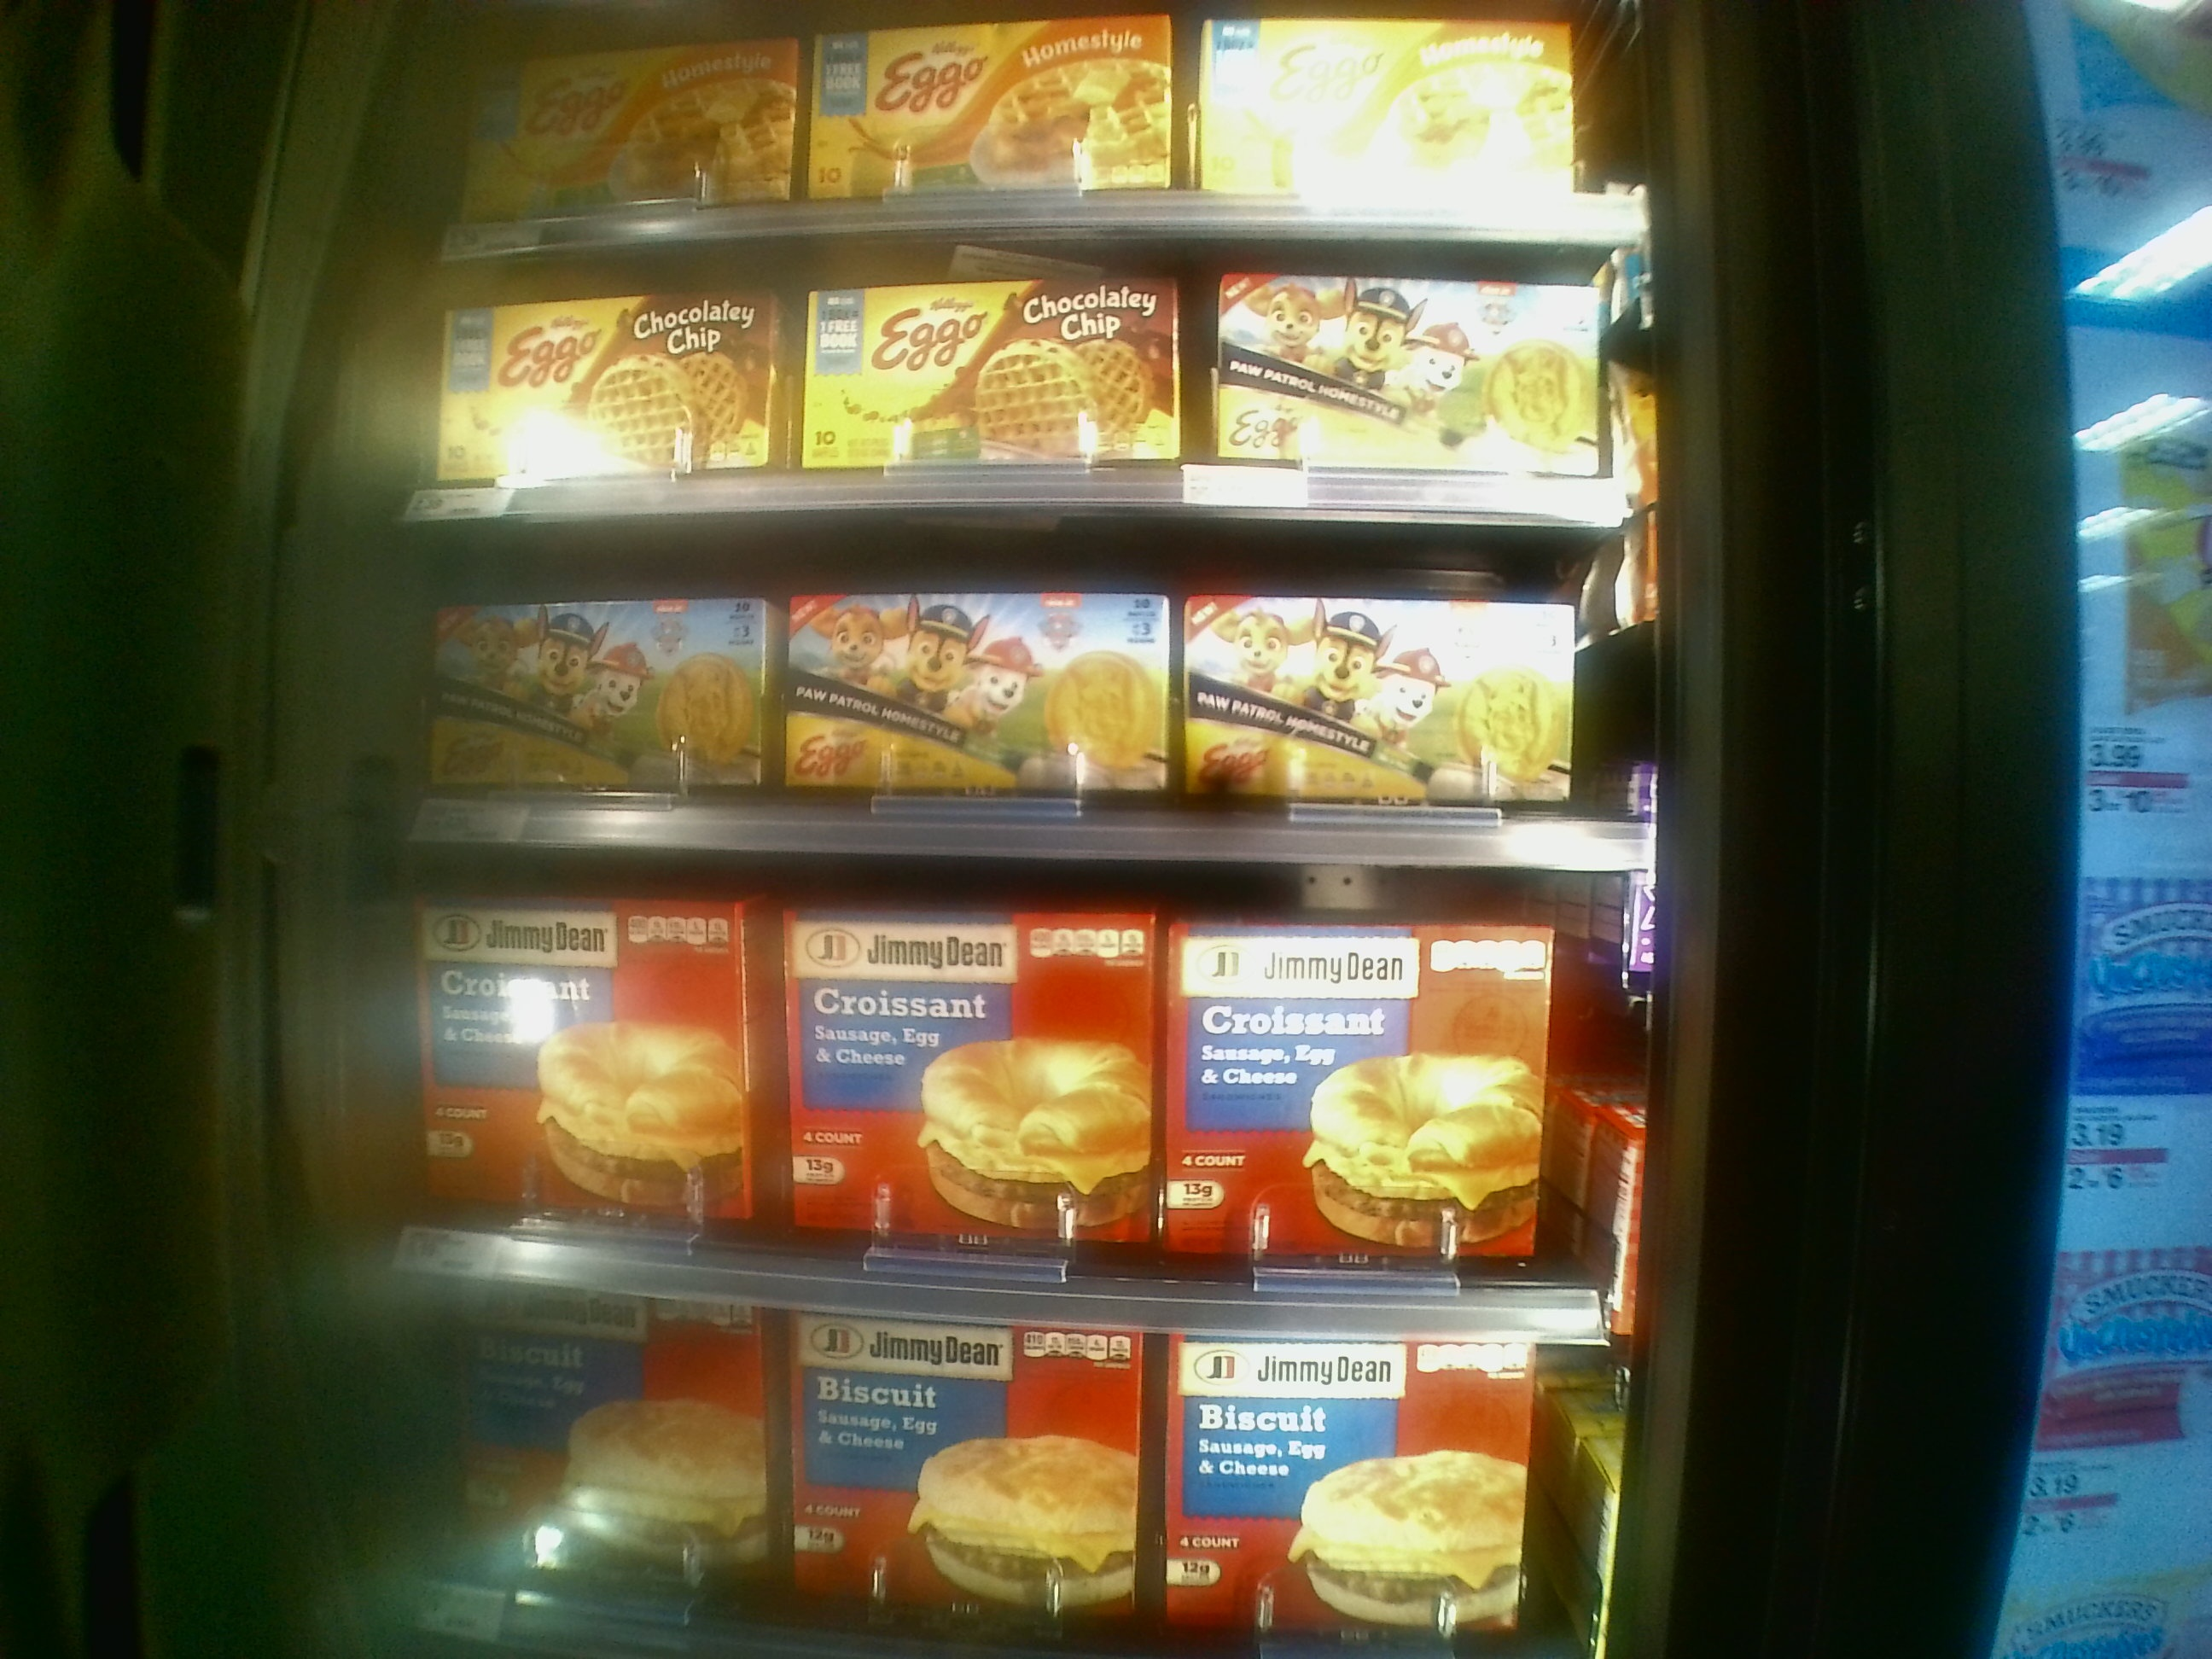shelf: (387, 833, 1616, 1324), (401, 502, 1644, 873)
